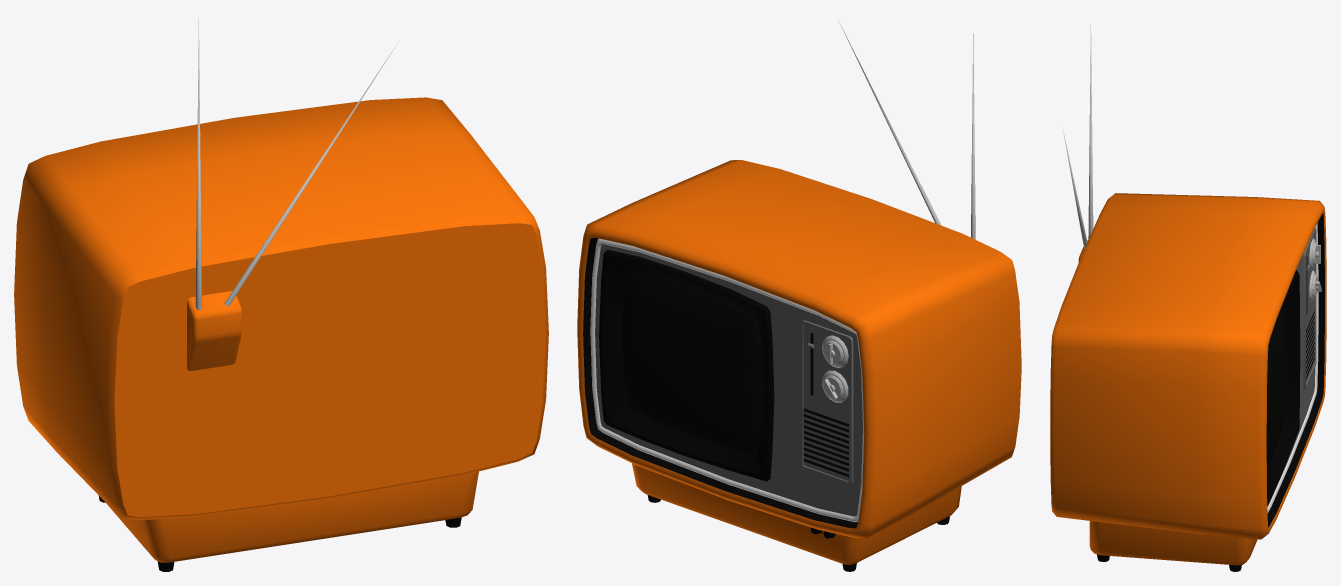
Rendered from RetroTV.FBX.
3 views of the same model, side by side, from view 1: azimuth 30°, elevation 25°; view 2: azimuth 150°, elevation 25°; view 3: azimuth 270°, elevation 25° (orthographic). The views are drawn at different scales.
Visible parts, largest first — view 1: Retro TV, Aerial1, Aerial2; view 2: Retro TV, PlayArea, Screen, Aerial2, LowerDial, UpperDial, Aerial1; view 3: Retro TV, Screen, PlayArea, Aerial1, Aerial2.
Part boxes in pixels (left/top/right/bottom): Retro TV: left=14, top=97, right=548, bottom=571; Aerial1: left=195, top=19, right=201, bottom=310; Aerial2: left=224, top=45, right=396, bottom=305; Retro TV: left=577, top=160, right=1021, bottom=571; PlayArea: left=621, top=272, right=764, bottom=452; Screen: left=602, top=258, right=766, bottom=475; Aerial2: left=841, top=26, right=941, bottom=225; LowerDial: left=822, top=370, right=848, bottom=402; UpperDial: left=822, top=335, right=848, bottom=368; Aerial1: left=971, top=33, right=975, bottom=239; Retro TV: left=1050, top=193, right=1326, bottom=571; Screen: left=1267, top=277, right=1299, bottom=503; PlayArea: left=1266, top=305, right=1286, bottom=466; Aerial1: left=1088, top=24, right=1093, bottom=239; Aerial2: left=1062, top=128, right=1087, bottom=248.
Bounding box in the file's own units: 119 × 150 × 84.01.
